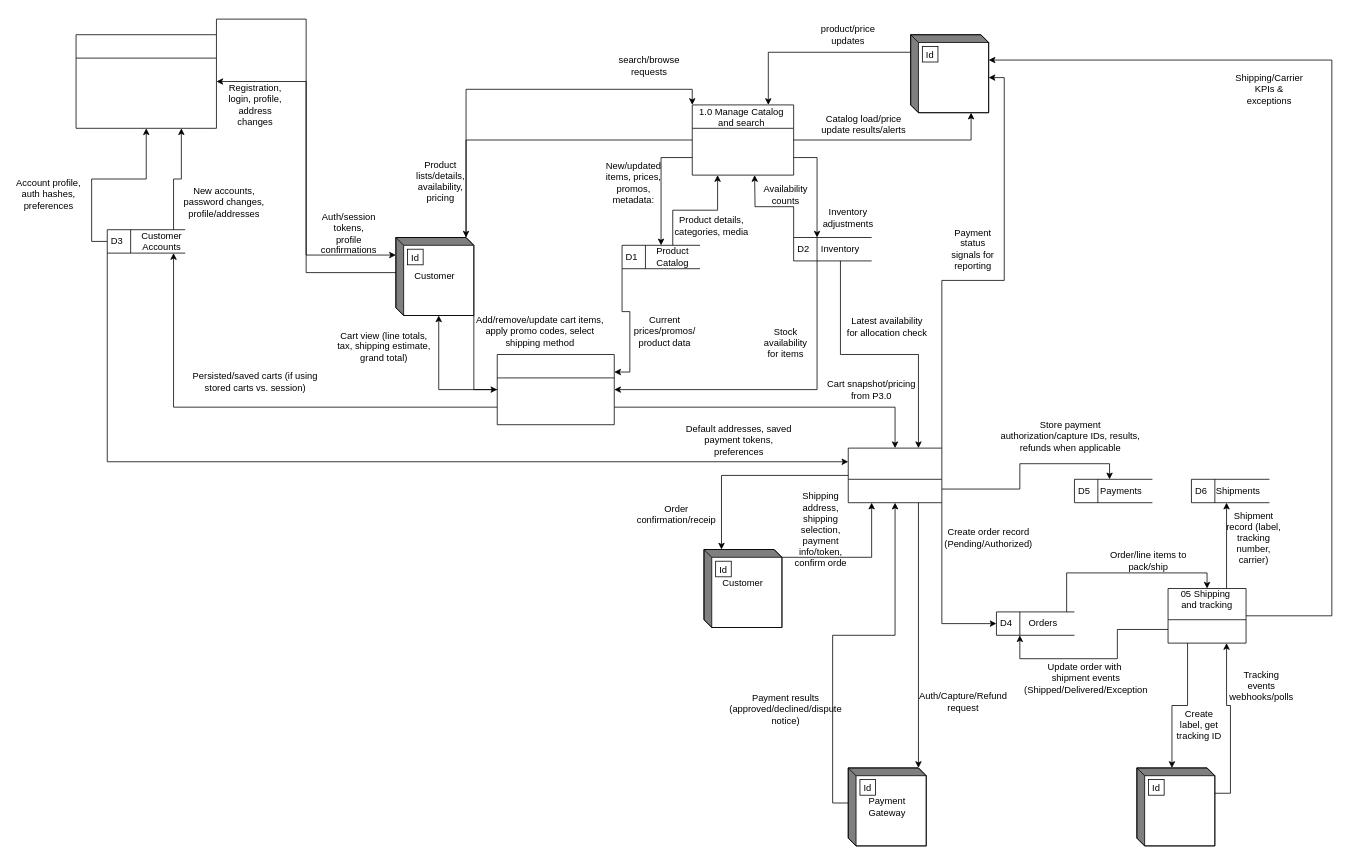
Some shapes in this 1352 by 860 pixel diagram are drawn without their labels. Each missing label, with the centre of its shape:
"2.0 Manage Customer Accounts & Authentication" belongs at (x=145, y=81).
"3.0 Manage Cart and Pricing" belongs at (x=555, y=389).
"4.0 Chackout and payment processing" belongs at (x=894, y=475).
"Seller" belongs at (x=949, y=73).
"Shipping P artner" belongs at (x=1175, y=806).
